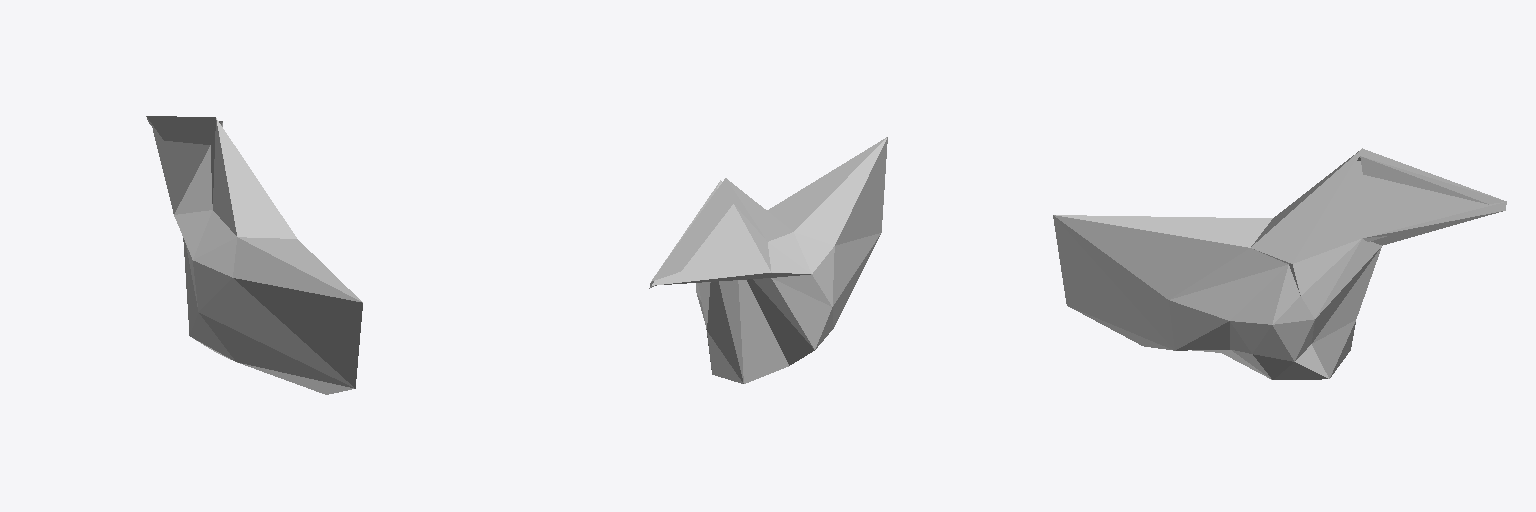
Rendered from holograma.obj.
3 renders of one model, left to right at view 1: azimuth 30°, elevation 25°; view 2: azimuth 150°, elevation 25°; view 3: azimuth 270°, elevation 25°, orthographic.
Parts seen in each view (by area): view 1: Icosphere.001; view 2: Icosphere.001; view 3: Icosphere.001.
Boxes of the visible parts, x1=… form: Icosphere.001: x1=146, y1=116, x2=362, y2=394; Icosphere.001: x1=649, y1=137, x2=887, y2=383; Icosphere.001: x1=1053, y1=148, x2=1506, y2=379.
Bounding box in the file's own units: 1.65 × 2.8 × 5.33.